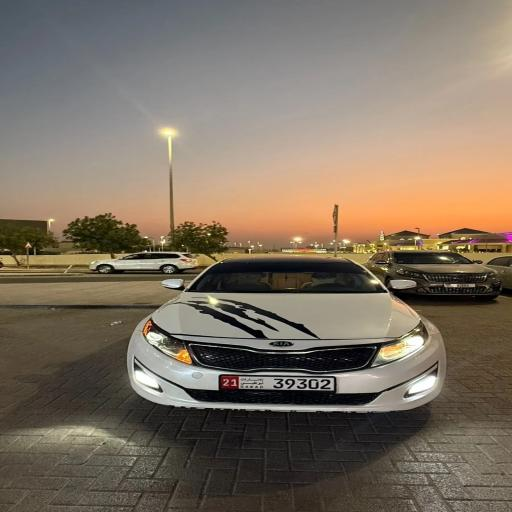license-plates: (220, 376, 335, 391), (444, 284, 476, 287)
